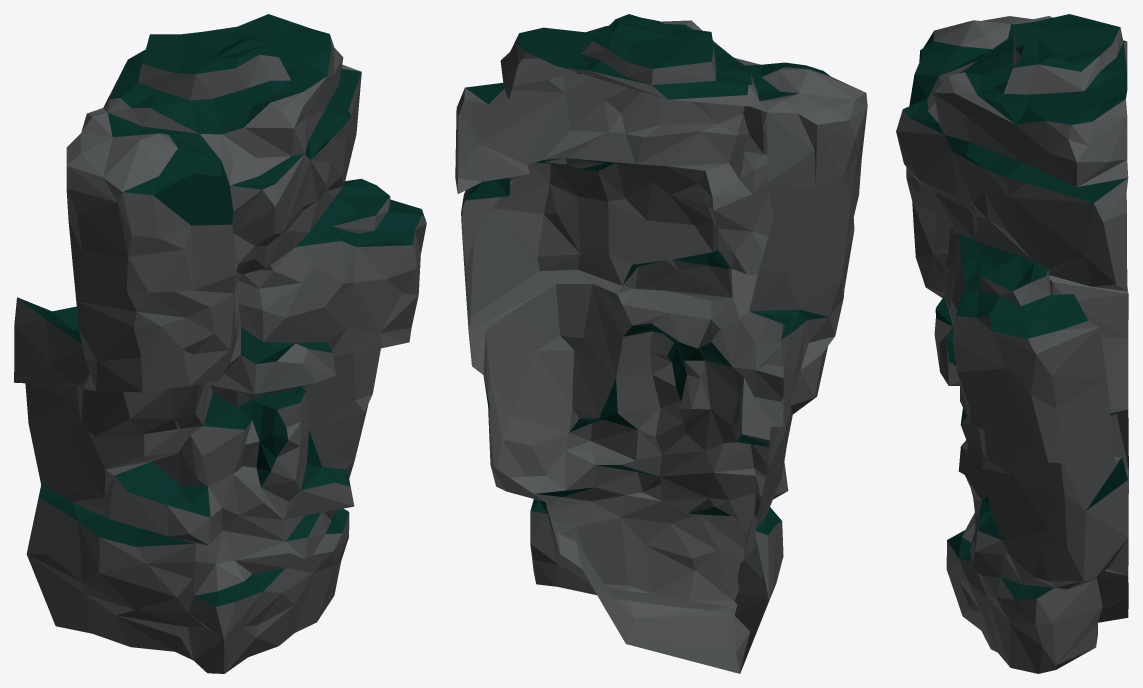
File: MCastle_CliffRock_Lrg_01.FBX
3 views of the same model, side by side, from view 1: azimuth 30°, elevation 25°; view 2: azimuth 150°, elevation 25°; view 3: azimuth 270°, elevation 25° (orthographic).
Parts seen in each view (by area): view 1: MCastle_CliffRock_Lrg_01_LOD0; view 2: MCastle_CliffRock_Lrg_01_LOD0; view 3: MCastle_CliffRock_Lrg_01_LOD0.
Part boxes in pixels (left/top/right/bottom): MCastle_CliffRock_Lrg_01_LOD0: left=14, top=14, right=426, bottom=673; MCastle_CliffRock_Lrg_01_LOD0: left=455, top=14, right=867, bottom=673; MCastle_CliffRock_Lrg_01_LOD0: left=896, top=14, right=1128, bottom=673.
Size of what is drawn, in the model's own units: 15.89 by 24.04 by 8.52.
